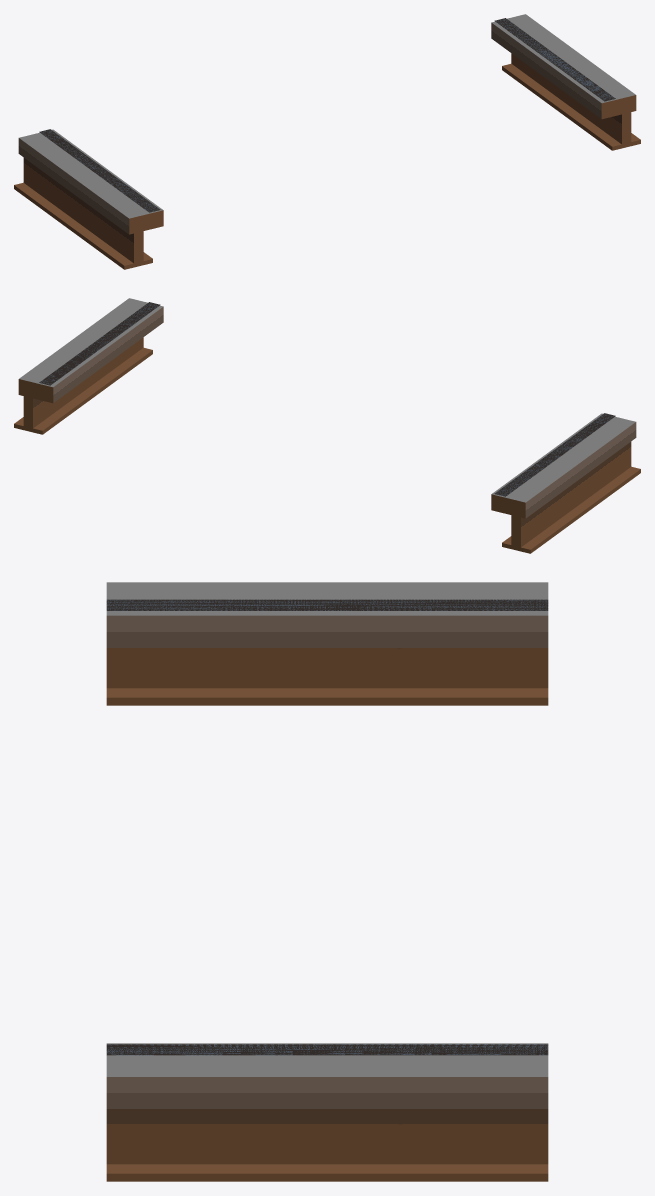
Rendered from tramrails_gutter.obj.
3 renders of one model, top to bottom at view 1: azimuth 30°, elevation 25°; view 2: azimuth 150°, elevation 25°; view 3: azimuth 270°, elevation 25°, orthographic. The views are drawn at different scales.
Parts seen in each view (by area): view 1: cube; view 2: cube; view 3: cube.
Boxes of the visible parts, x1,y1,x2,y2 form: cube: [14, 14, 640, 269]; cube: [14, 298, 640, 553]; cube: [106, 582, 548, 1181].
Bounding box in the file's own units: 1.69 × 0.1594 × 0.625.
Materials: 1 (1 with a texture image).
